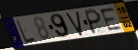8: (33, 16, 51, 42)
9: (50, 13, 71, 40)
E: (99, 6, 124, 32)
L: (15, 18, 37, 44)
P: (84, 8, 103, 35)
V: (65, 10, 84, 37)
